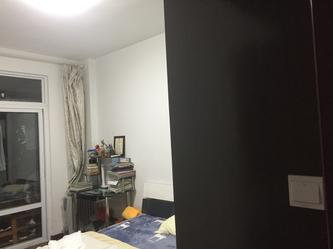switch: (288, 177, 324, 207)
